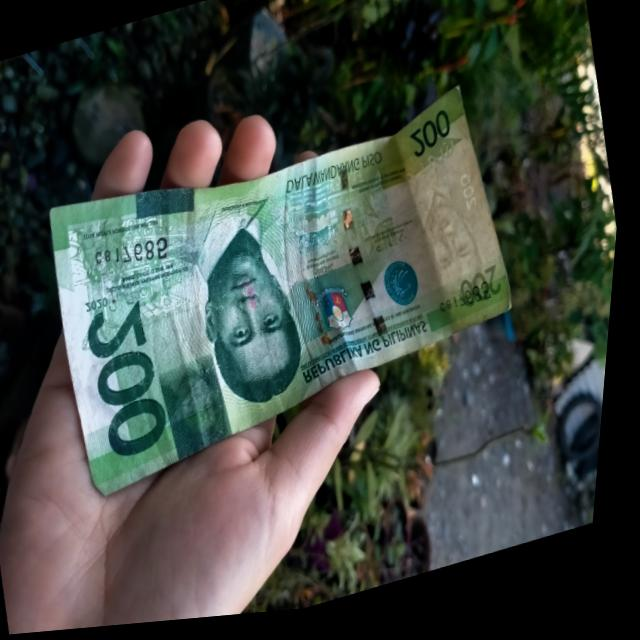concealed_value: (161, 351, 248, 473)
security_thread: (318, 137, 423, 381)
see_through_mark: (392, 142, 468, 201)
serial_number: (96, 221, 181, 286)
value: (81, 294, 195, 478)
value_watermark: (450, 169, 492, 229)
watermark: (388, 166, 504, 327)
